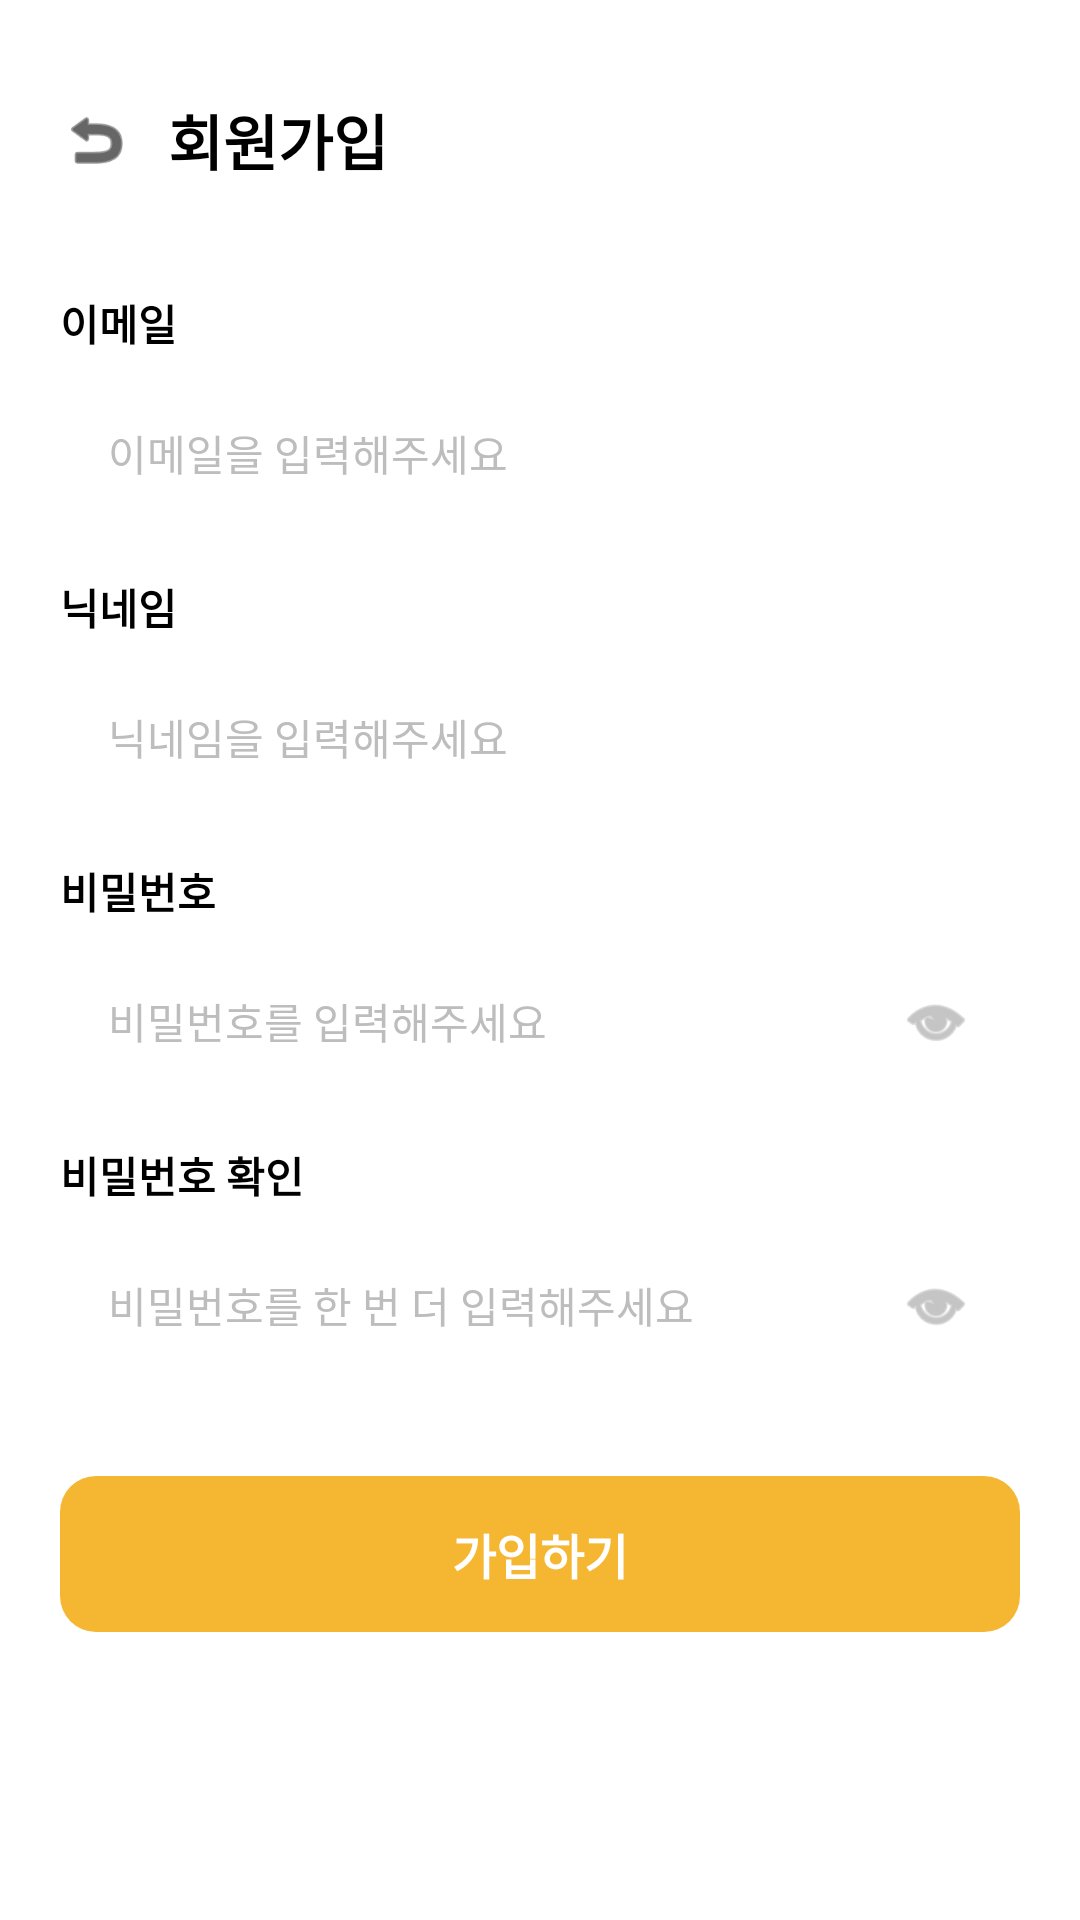

Point at icon controls on the screen. Image size 1080×1920, points as (x=x, y=y).
뒤로 가기: (x=97, y=140)
비밀번호 보기 토글: (x=936, y=1023)
비밀번호 확인 보기 토글: (x=936, y=1307)
